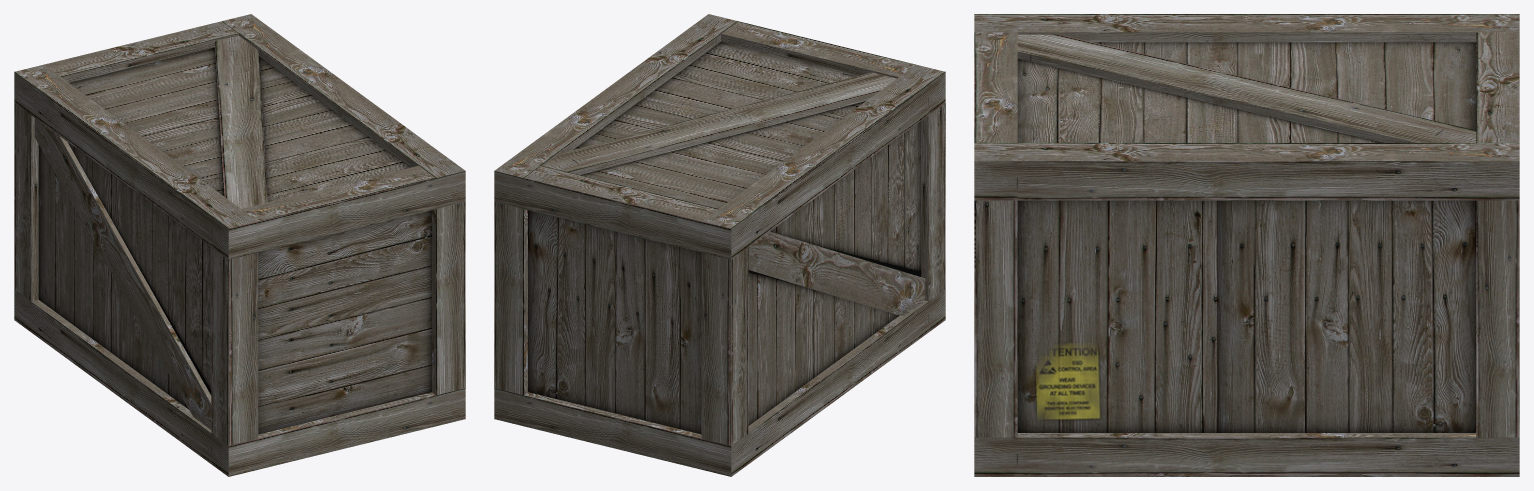
The model's file is woodb4.fbx.
3 renders of one model, left to right at view 1: azimuth 30°, elevation 25°; view 2: azimuth 150°, elevation 25°; view 3: azimuth 270°, elevation 25°, orthographic. The views are drawn at different scales.
Visible parts, largest first — view 1: woodb4_Layer1; view 2: woodb4_Layer1; view 3: woodb4_Layer1.
Boxes of the visible parts, left/top/right/bottom form: woodb4_Layer1: left=14, top=14, right=465, bottom=476; woodb4_Layer1: left=494, top=14, right=945, bottom=476; woodb4_Layer1: left=974, top=14, right=1519, bottom=476.
Size of the model in its own units: 64 by 64 by 100.
Materials: 1 (1 with a texture image).
